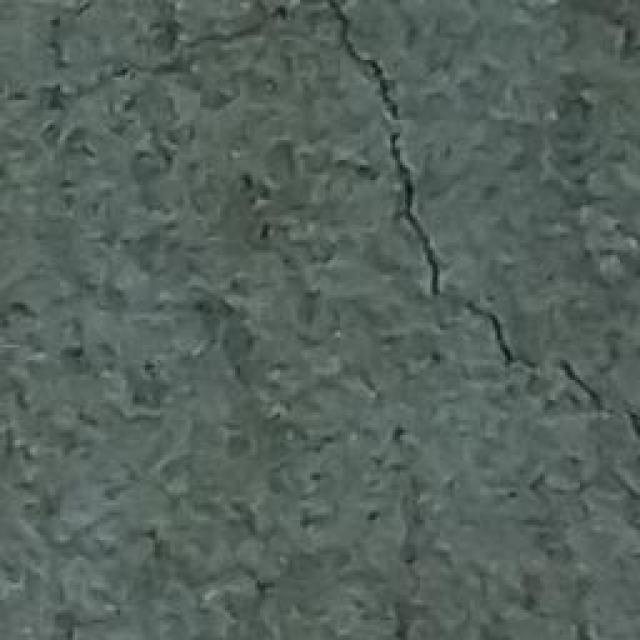Diagonal: (305, 0, 640, 435)
